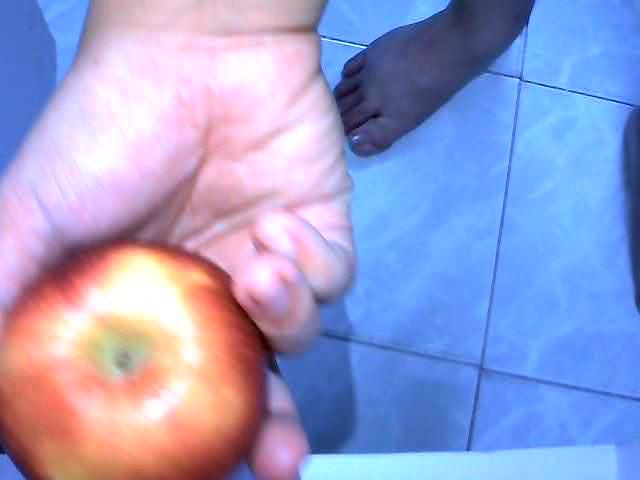apple: (0, 240, 268, 480)
